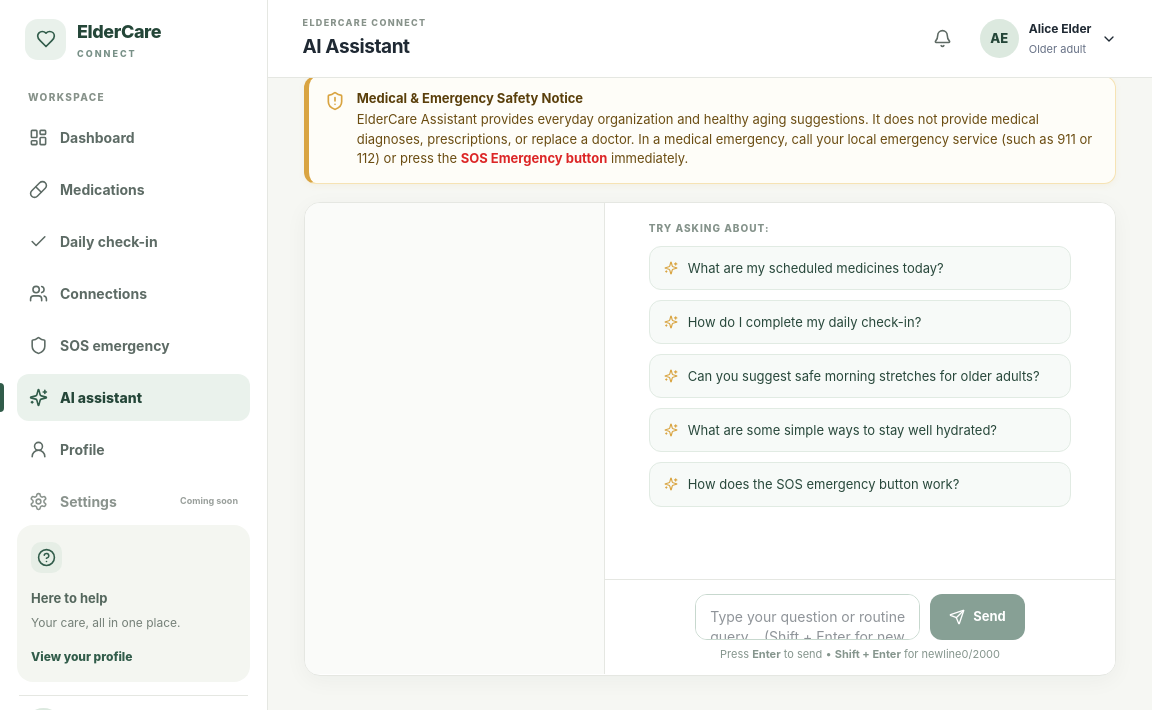
Test: Module 7 AI Eldercare Assistant frontend workflows › handles recoverable error state and allows retrying the message
(page scrolled)
Type "Morning stretches please" into the text box with placeholder "Type your question or routine query". click: point(808, 617)
box: [695,594,920,640]
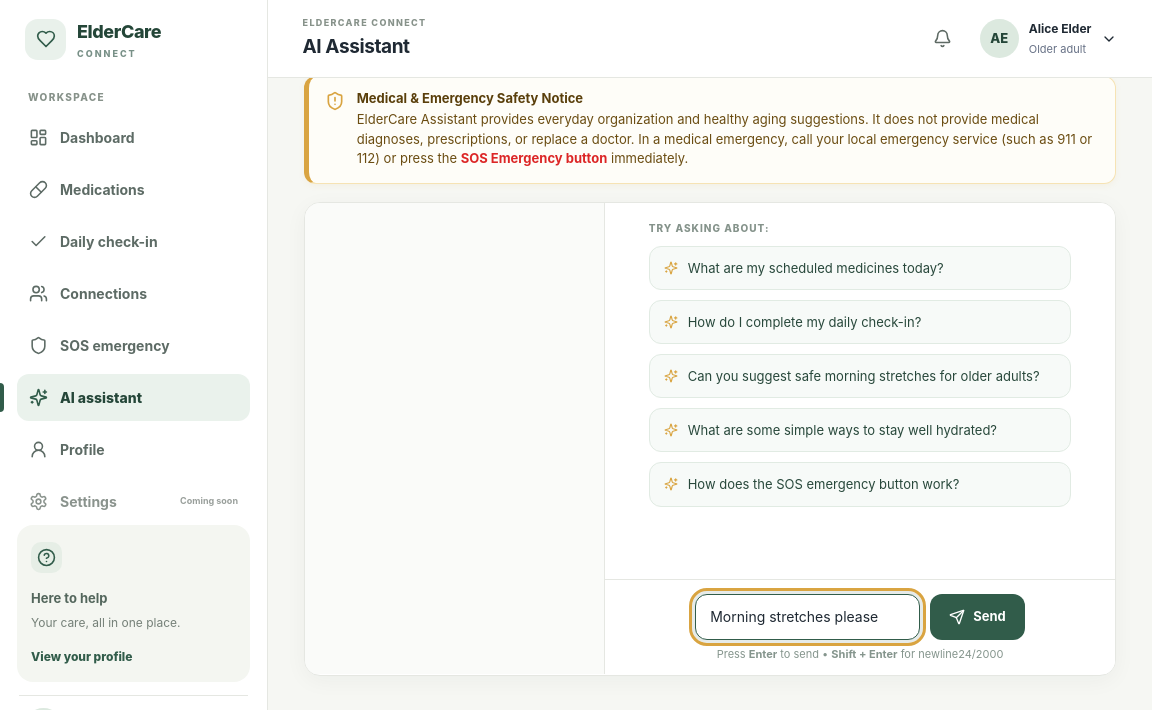
Click the button "Send". click: point(977, 617)
box: [930,594,1025,640]
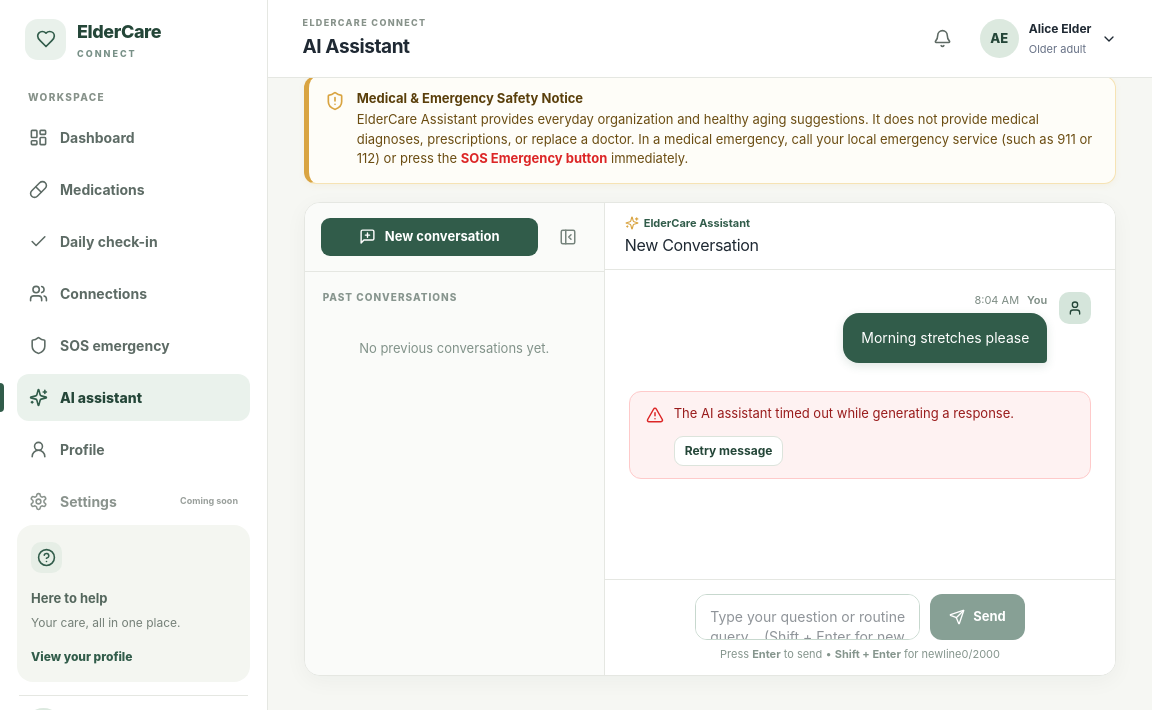
Expected: the text "The AI assistant timed out while generating a response." is shown, [674,404,1014,424]
Expected: the button "Retry message" is shown
Click retry
Click the button "Retry message". click: point(729, 451)
box: [674,436,783,466]
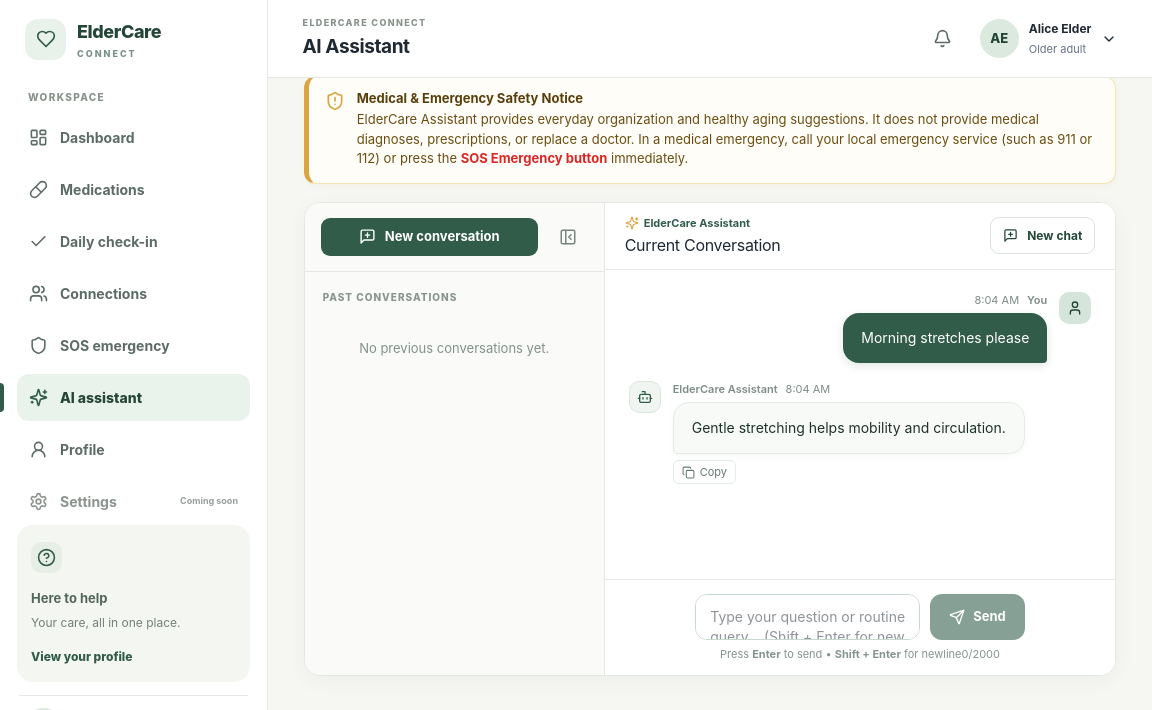
Expected: the text "Gentle stretching helps mobility and circulation." is shown, [692,417,1006,439]
